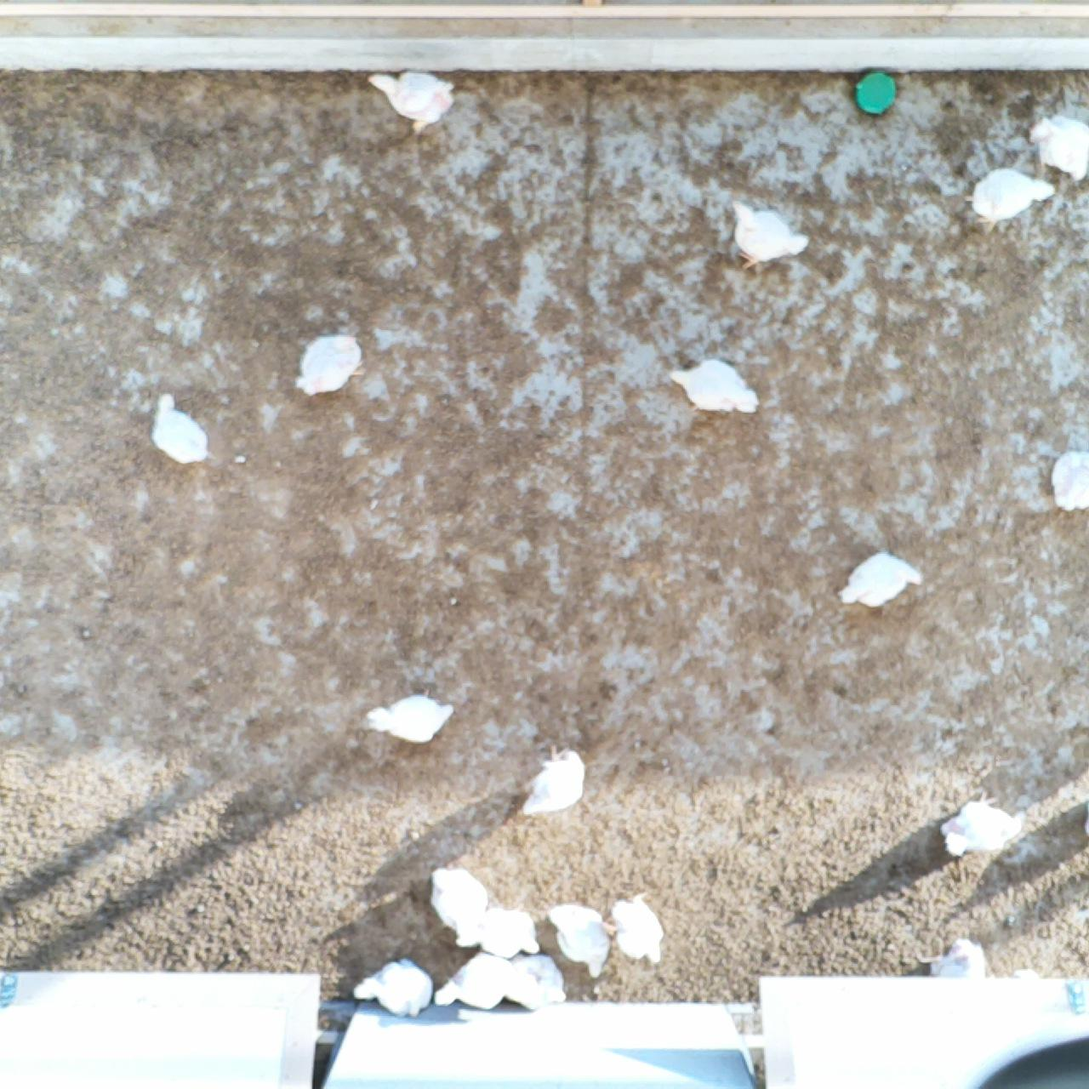chicken: (364, 67, 459, 143), (933, 789, 1031, 862), (959, 161, 1056, 233), (728, 195, 813, 274), (360, 679, 456, 747), (348, 951, 435, 1025), (425, 857, 492, 953), (833, 545, 926, 614), (668, 354, 763, 420), (542, 898, 613, 980), (145, 386, 214, 470), (292, 329, 370, 403), (517, 742, 590, 821), (428, 948, 516, 1012), (607, 888, 669, 969), (1026, 109, 1089, 184), (915, 935, 990, 983), (1046, 442, 1089, 513), (517, 950, 569, 1006), (501, 956, 542, 1015)
